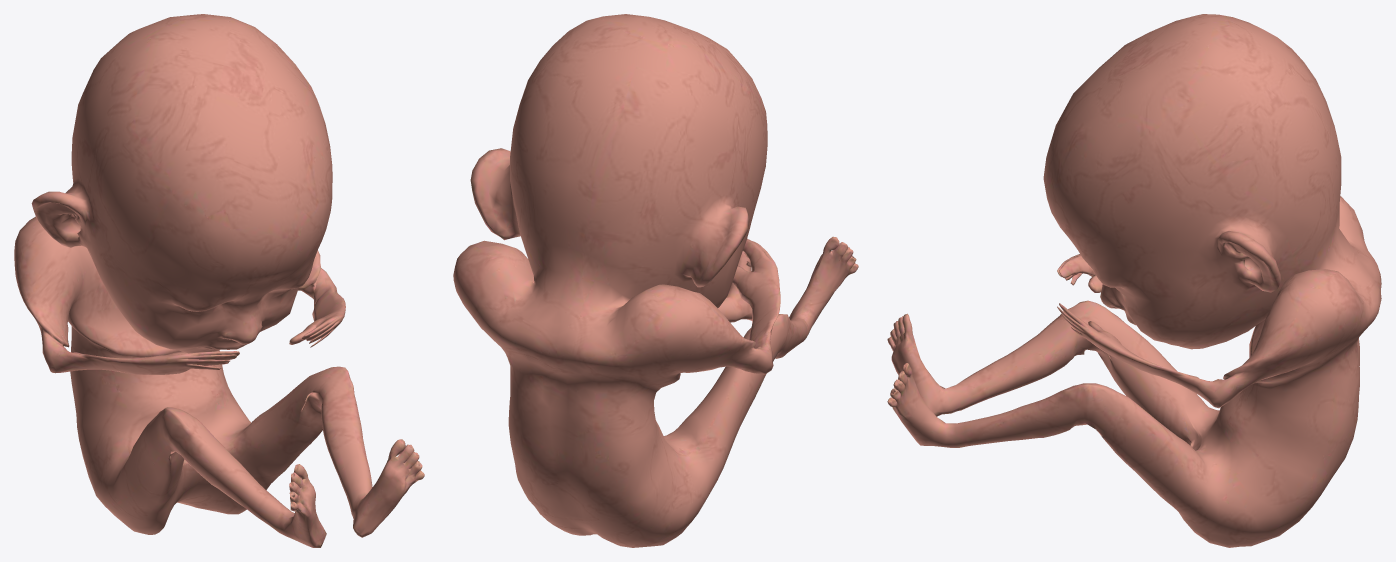
The picture shows the model from 3 angles, left to right: view 1: azimuth 30°, elevation 25°; view 2: azimuth 150°, elevation 25°; view 3: azimuth 270°, elevation 25°; orthographic projection.
Parts seen in each view (by area): view 1: Baby; view 2: Baby; view 3: Baby.
Part boxes in pixels (<box>): Baby: <box>14,14,424,547</box>; Baby: <box>453,14,858,547</box>; Baby: <box>887,14,1381,547</box>.
Bounding box in the file's own units: 0.0437 × 0.0728 × 0.0651.
Materials: 1 (1 with a texture image).
